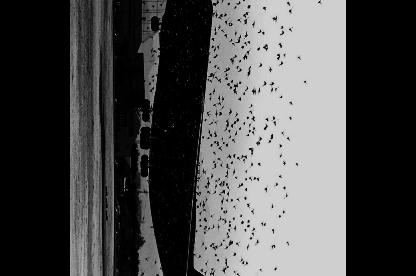C17: (140, 0, 245, 275)
